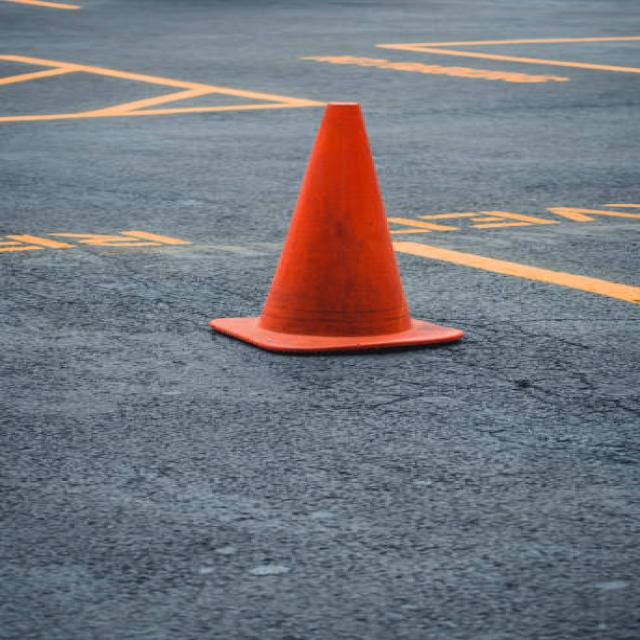Traffic Cone: (171, 96, 508, 362)
